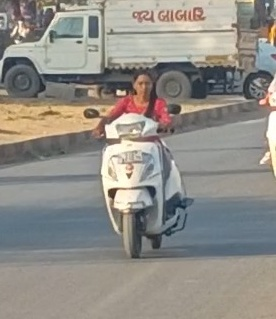BikeWithRider: (80, 66, 199, 260)
NoHelmet: (128, 69, 157, 100)
